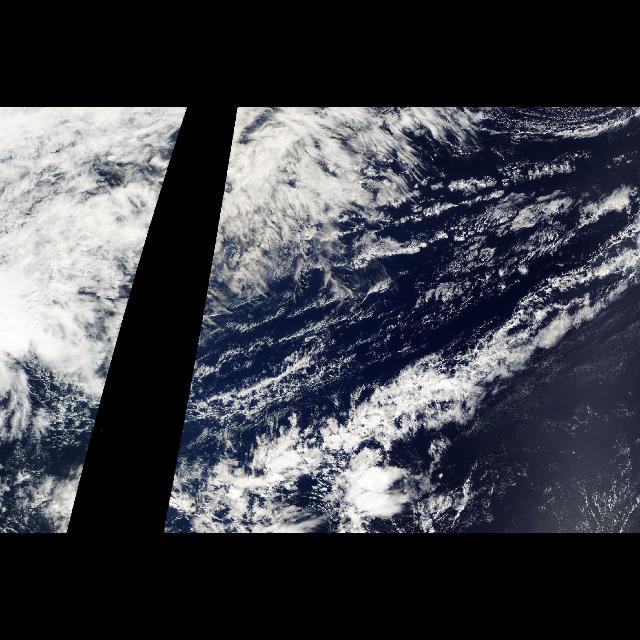Fish: (192, 206, 638, 534)
Sugar: (475, 362, 631, 524)
